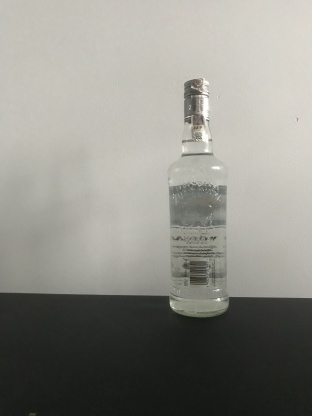nakretka: (181, 76, 211, 124)
